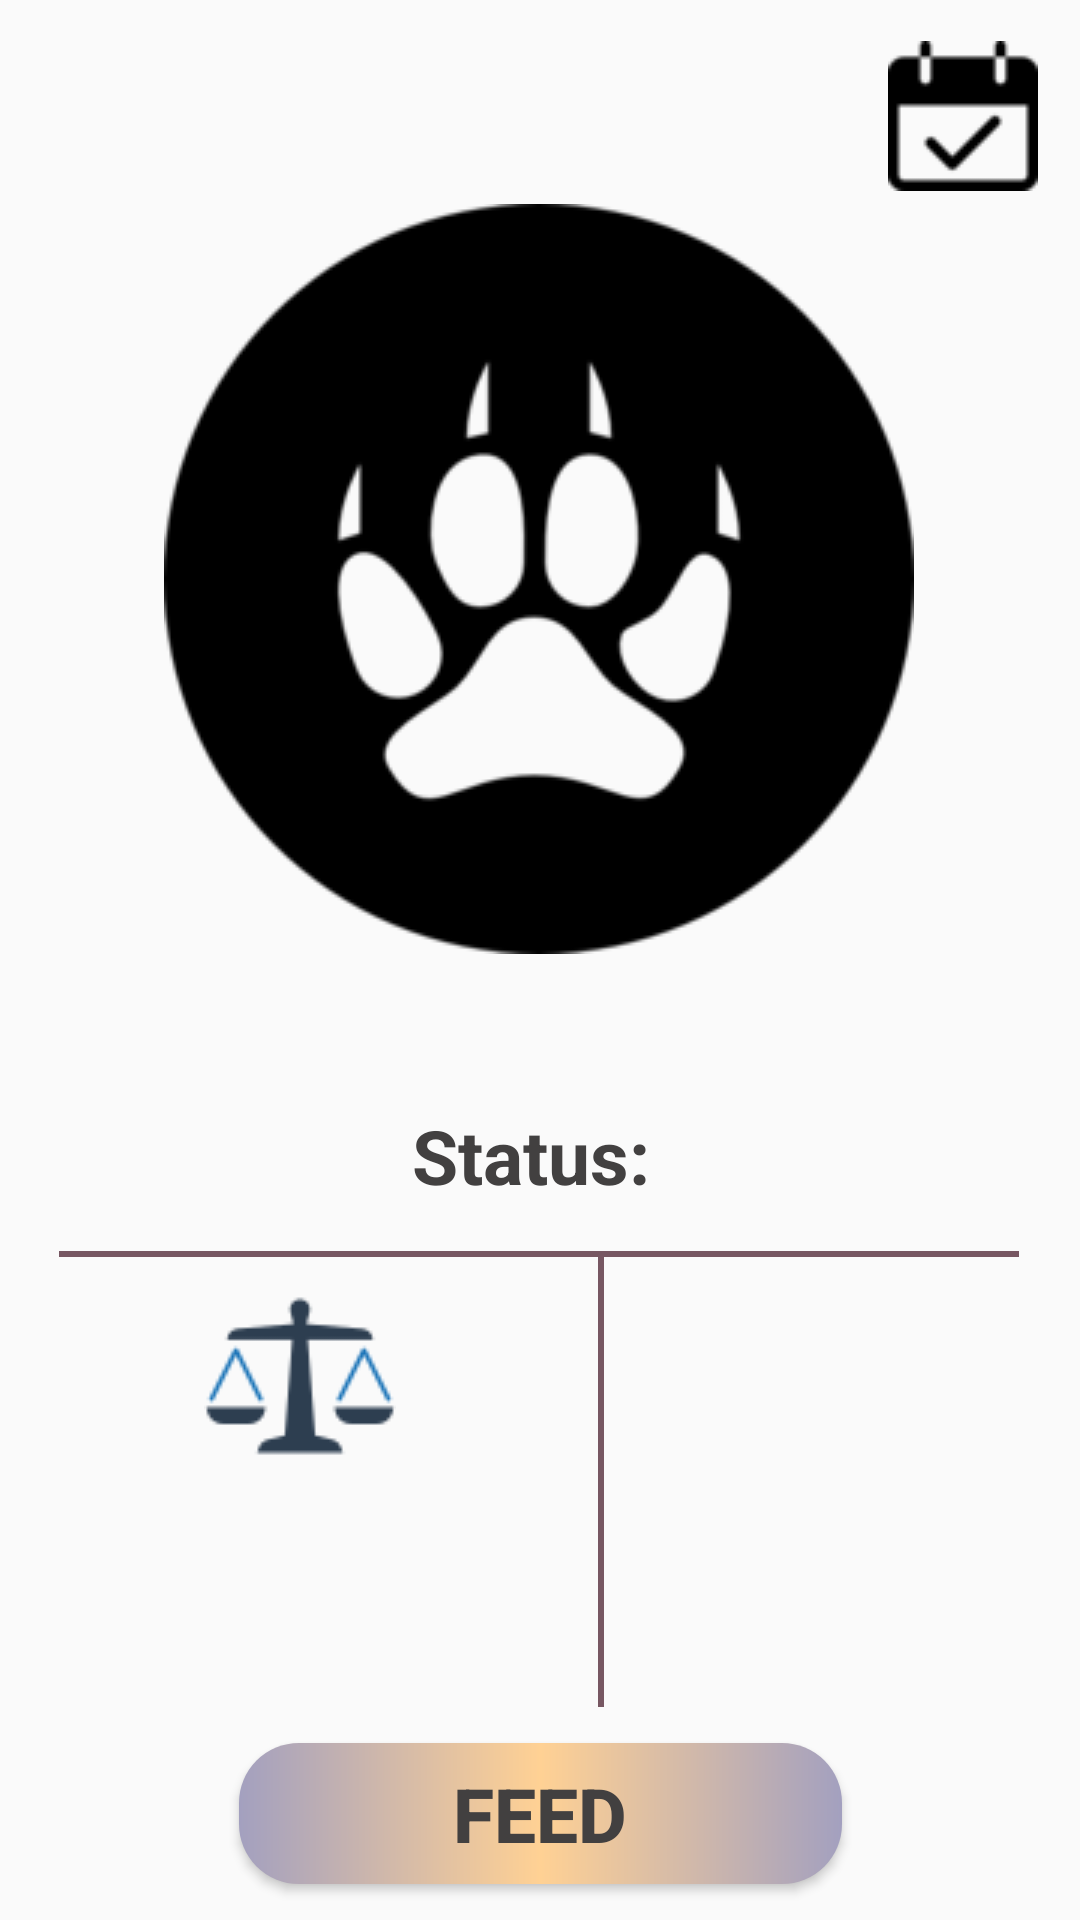

Icon click points for this 1080x1920 phone screenshot, format point (x, y):
calendar: point (963, 116)
weight: point (300, 1376)
